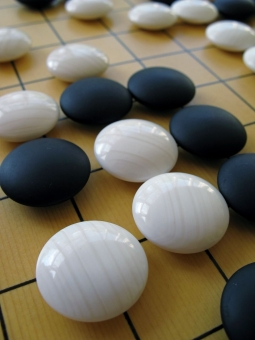black: (1, 134, 91, 210), (168, 103, 249, 162), (59, 76, 134, 128), (128, 65, 197, 116)
crossing: (209, 69, 236, 94), (174, 40, 198, 59), (130, 52, 148, 67), (38, 15, 57, 29)
white: (34, 219, 151, 326), (131, 171, 231, 255), (93, 118, 180, 182), (44, 43, 113, 83)
